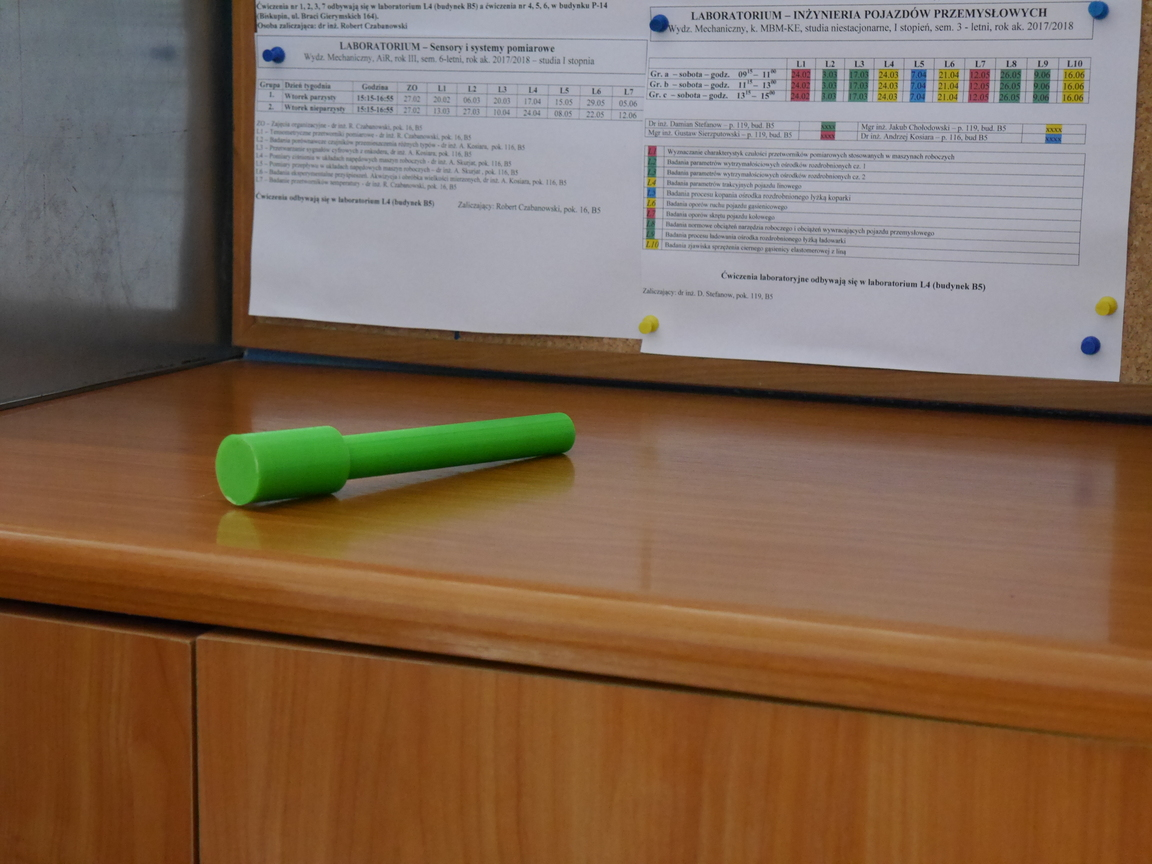cargo_g: (212, 411, 577, 508)
